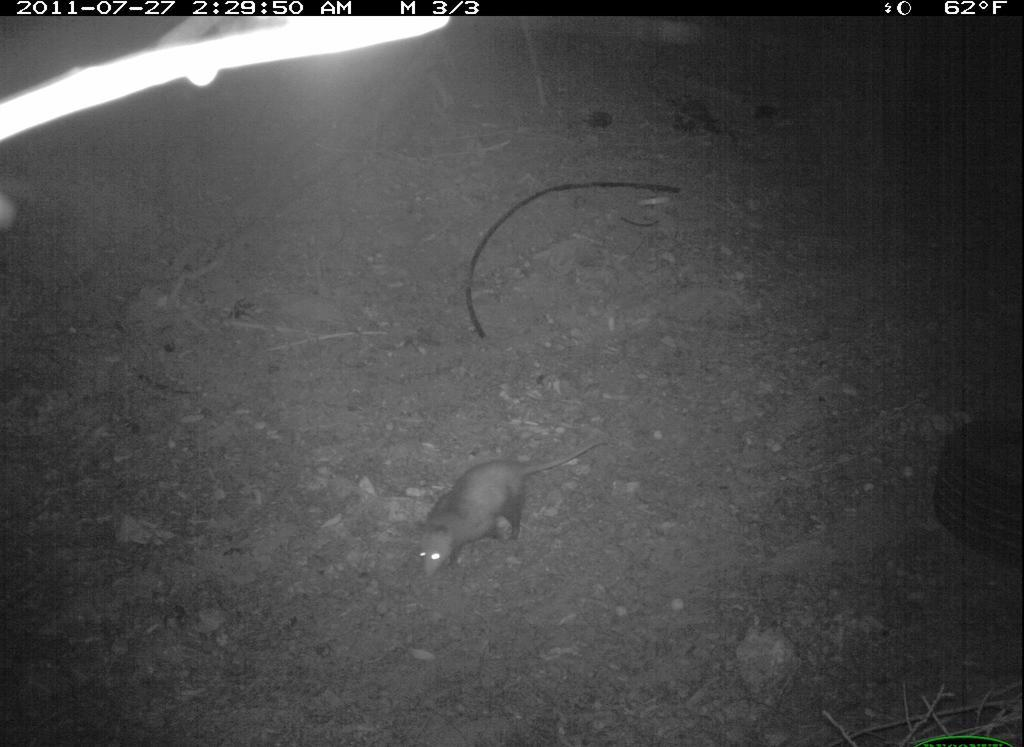opossum: (409, 434, 620, 584)
